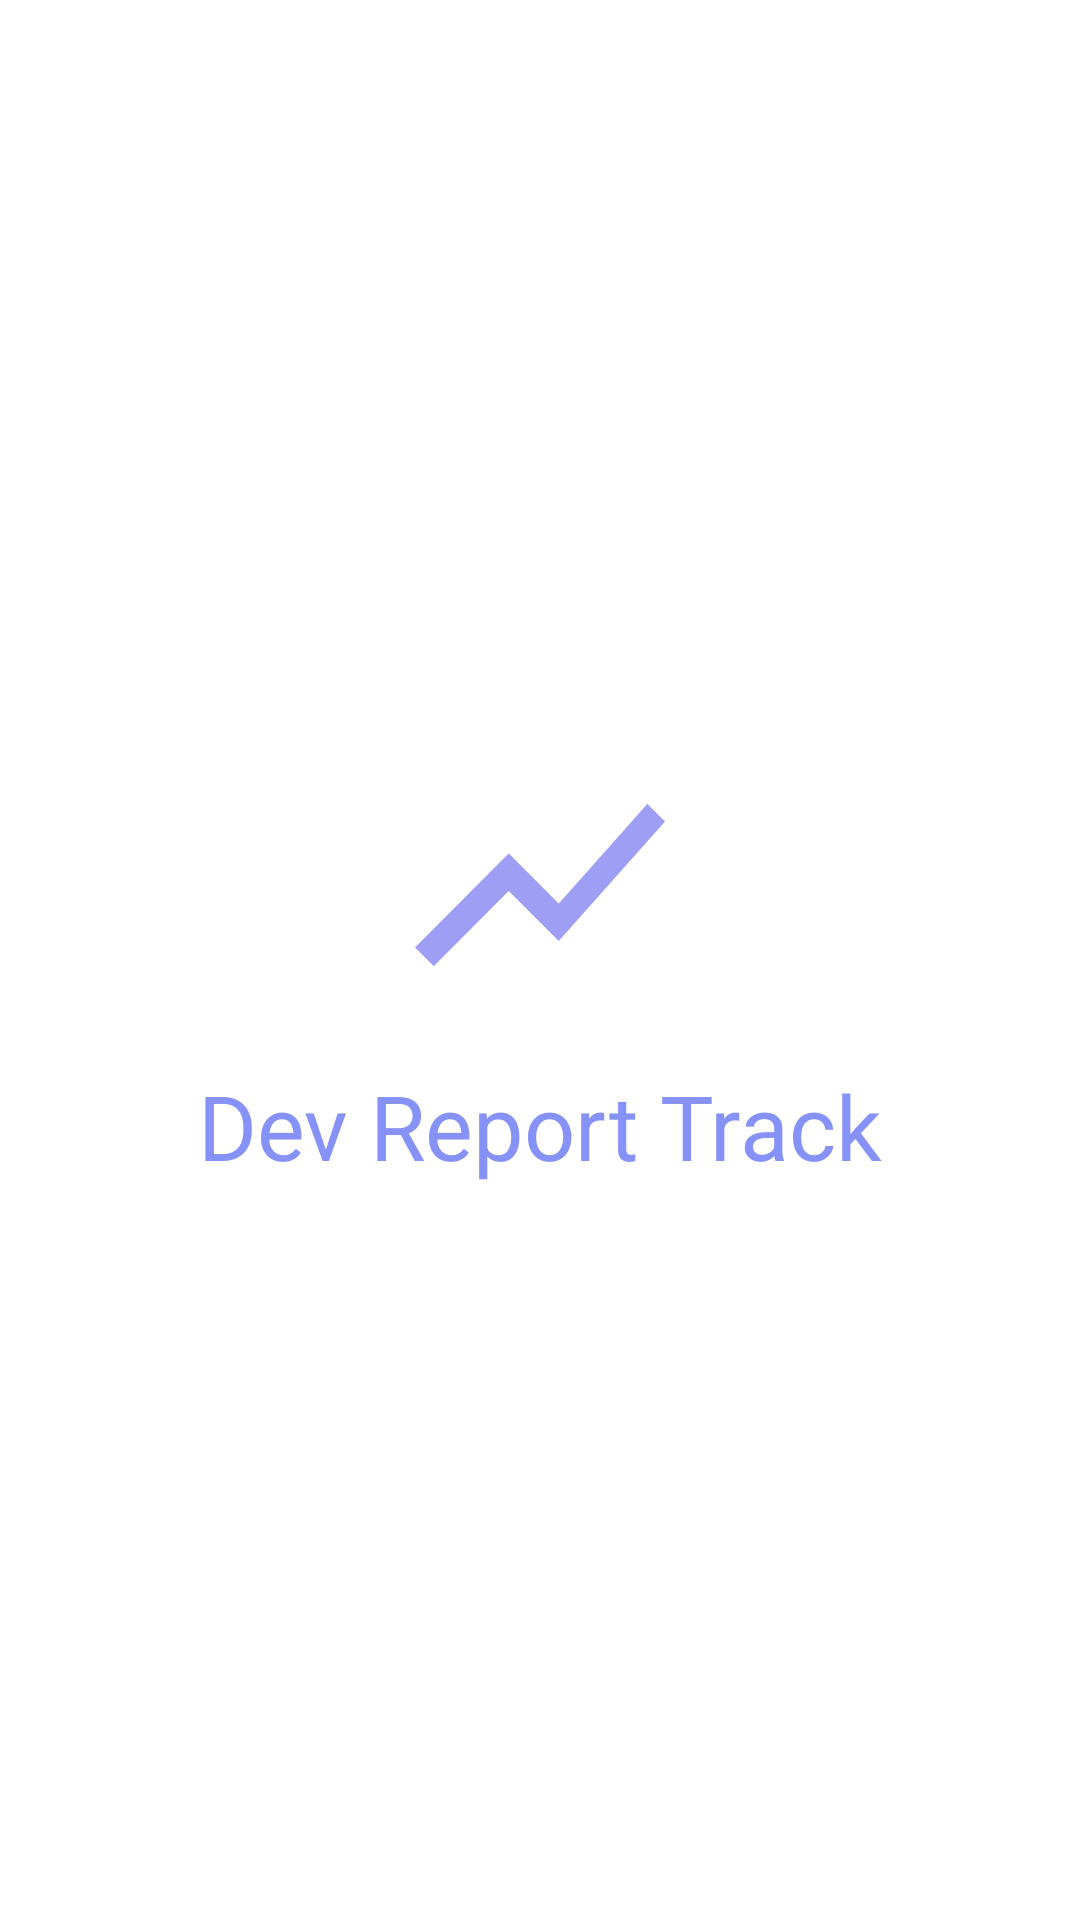

Locate icon controls on the screen. Image size 1080 × 1920, boxes as (x1, y1, x2, y2).
show chart: (415, 804, 665, 966)
